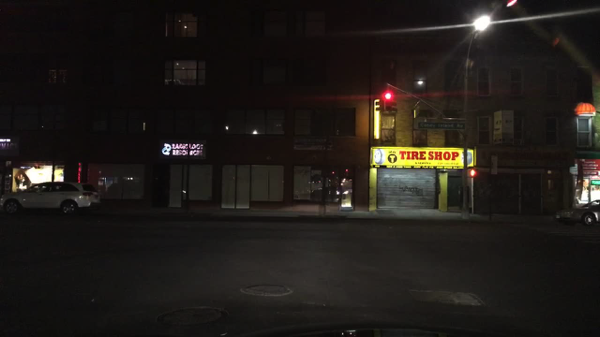car: (0, 181, 101, 214), (552, 198, 599, 227)
traffic light: (383, 91, 390, 112), (374, 93, 382, 110), (391, 94, 396, 113), (468, 170, 477, 176)
traffic sign: (416, 121, 465, 130)
